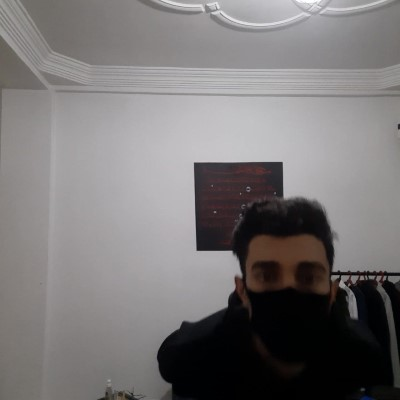NonMedicalMask: (248, 287, 335, 361)
